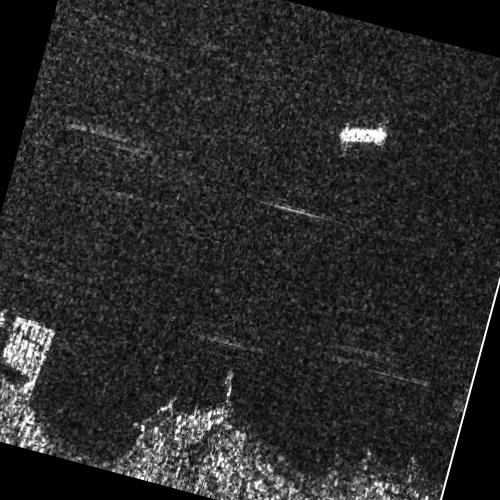ship: (338, 125, 387, 146)
